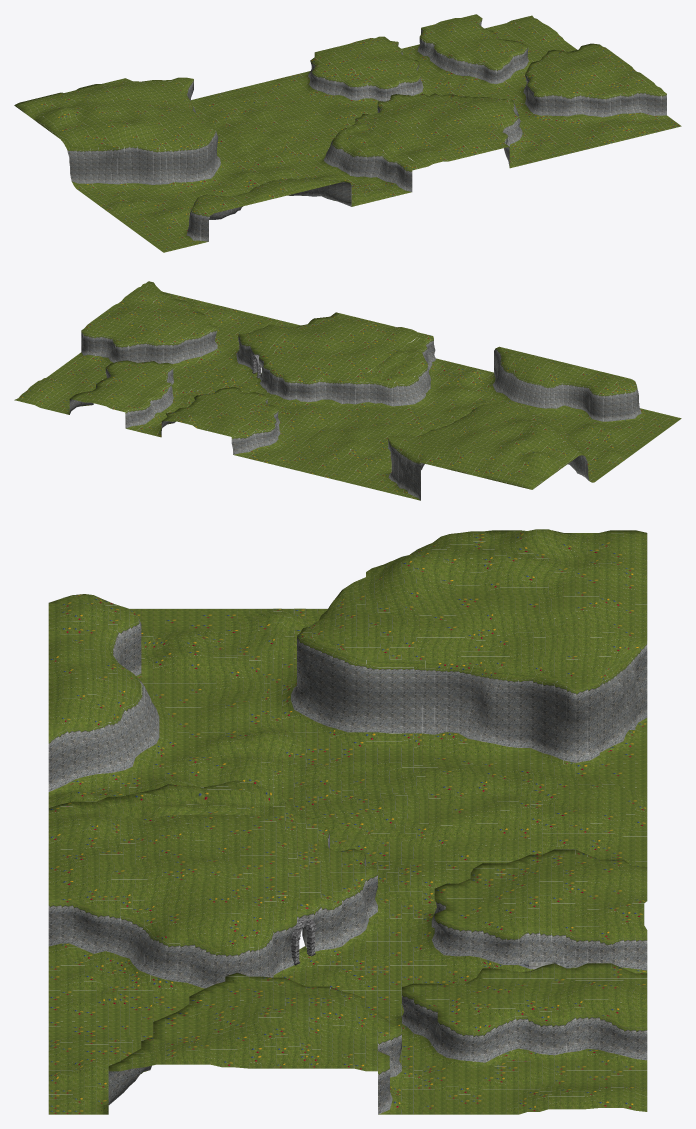
File: new map ooohh.glb
3 renders of one model, top to bottom at view 1: azimuth 30°, elevation 25°; view 2: azimuth 150°, elevation 25°; view 3: azimuth 270°, elevation 25°, orthographic. The views are drawn at different scales.
Parts seen in each view (by area): view 1: Grid.003, Grid; view 2: Grid, Grid.003; view 3: Grid.003, Grid.
Boxes of the visible parts, x1,y1,x2,y2 form: Grid.003: (14, 77, 422, 252); Grid: (273, 14, 681, 168); Grid: (14, 281, 422, 464); Grid.003: (273, 333, 681, 500); Grid.003: (48, 529, 647, 861); Grid: (48, 814, 647, 1114).
Size of the model in its own units: 100 by 9.1 by 50.
1 material, 1 textured.
